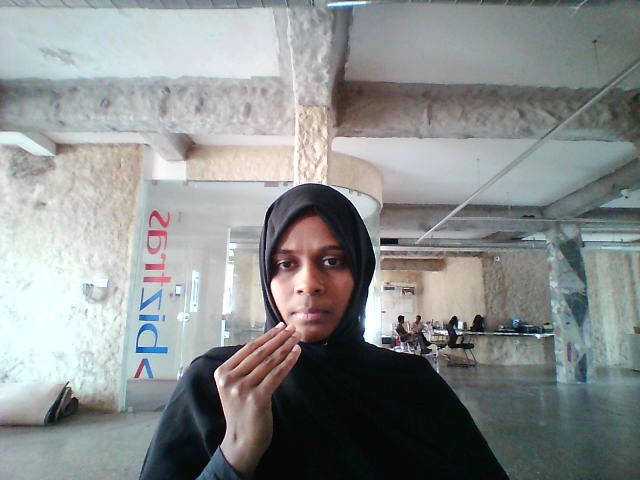THANKS: (193, 320, 339, 471)
